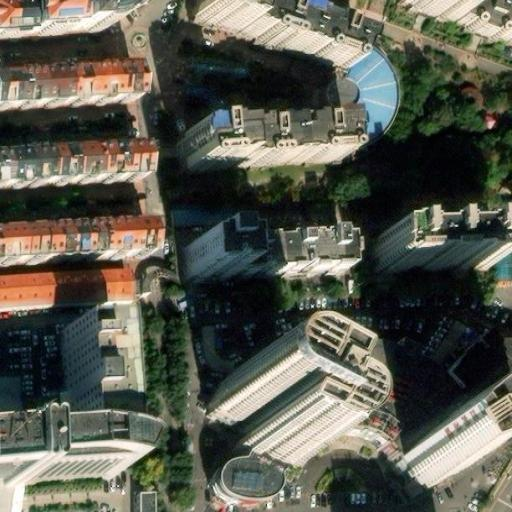building: (253, 329, 512, 456), (380, 387, 512, 496), (191, 0, 363, 71), (185, 358, 299, 456), (183, 117, 353, 170), (0, 53, 142, 99), (0, 222, 149, 265), (0, 127, 149, 170), (0, 455, 124, 505), (0, 278, 129, 324), (223, 224, 336, 275), (69, 347, 119, 458), (382, 250, 502, 295), (405, 0, 482, 33), (181, 235, 226, 274), (477, 463, 512, 512)
